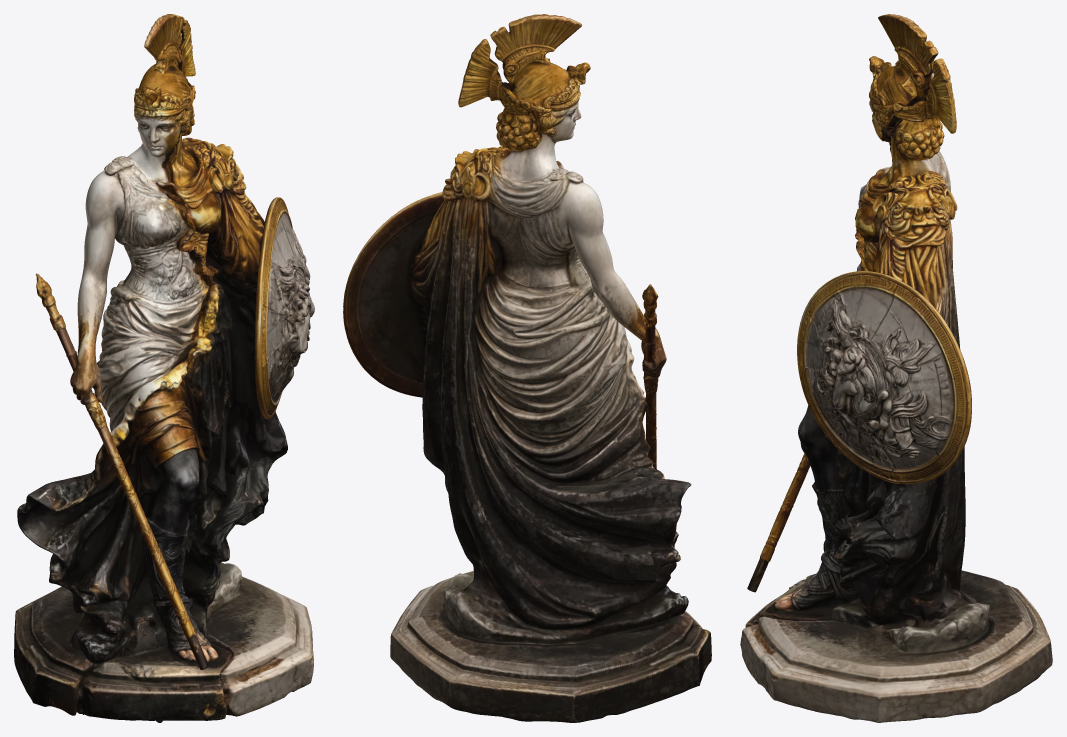
Rendered from athena-statue.glb.
The picture shows the model from 3 angles, left to right: view 1: azimuth 30°, elevation 25°; view 2: azimuth 150°, elevation 25°; view 3: azimuth 270°, elevation 25°; orthographic projection.
Visible parts, largest first — view 1: tripo_node_80d93687-e6a6-4e80-a328-9235808cf87e; view 2: tripo_node_80d93687-e6a6-4e80-a328-9235808cf87e; view 3: tripo_node_80d93687-e6a6-4e80-a328-9235808cf87e.
Part boxes in pixels (x1=…): tripo_node_80d93687-e6a6-4e80-a328-9235808cf87e: x1=14, y1=14, x2=314, y2=722; tripo_node_80d93687-e6a6-4e80-a328-9235808cf87e: x1=343, y1=14, x2=711, y2=722; tripo_node_80d93687-e6a6-4e80-a328-9235808cf87e: x1=740, y1=14, x2=1052, y2=722.
Bounding box in the file's own units: 0.4902 × 0.9781 × 0.43.
Materials: 1 (1 with a texture image).
